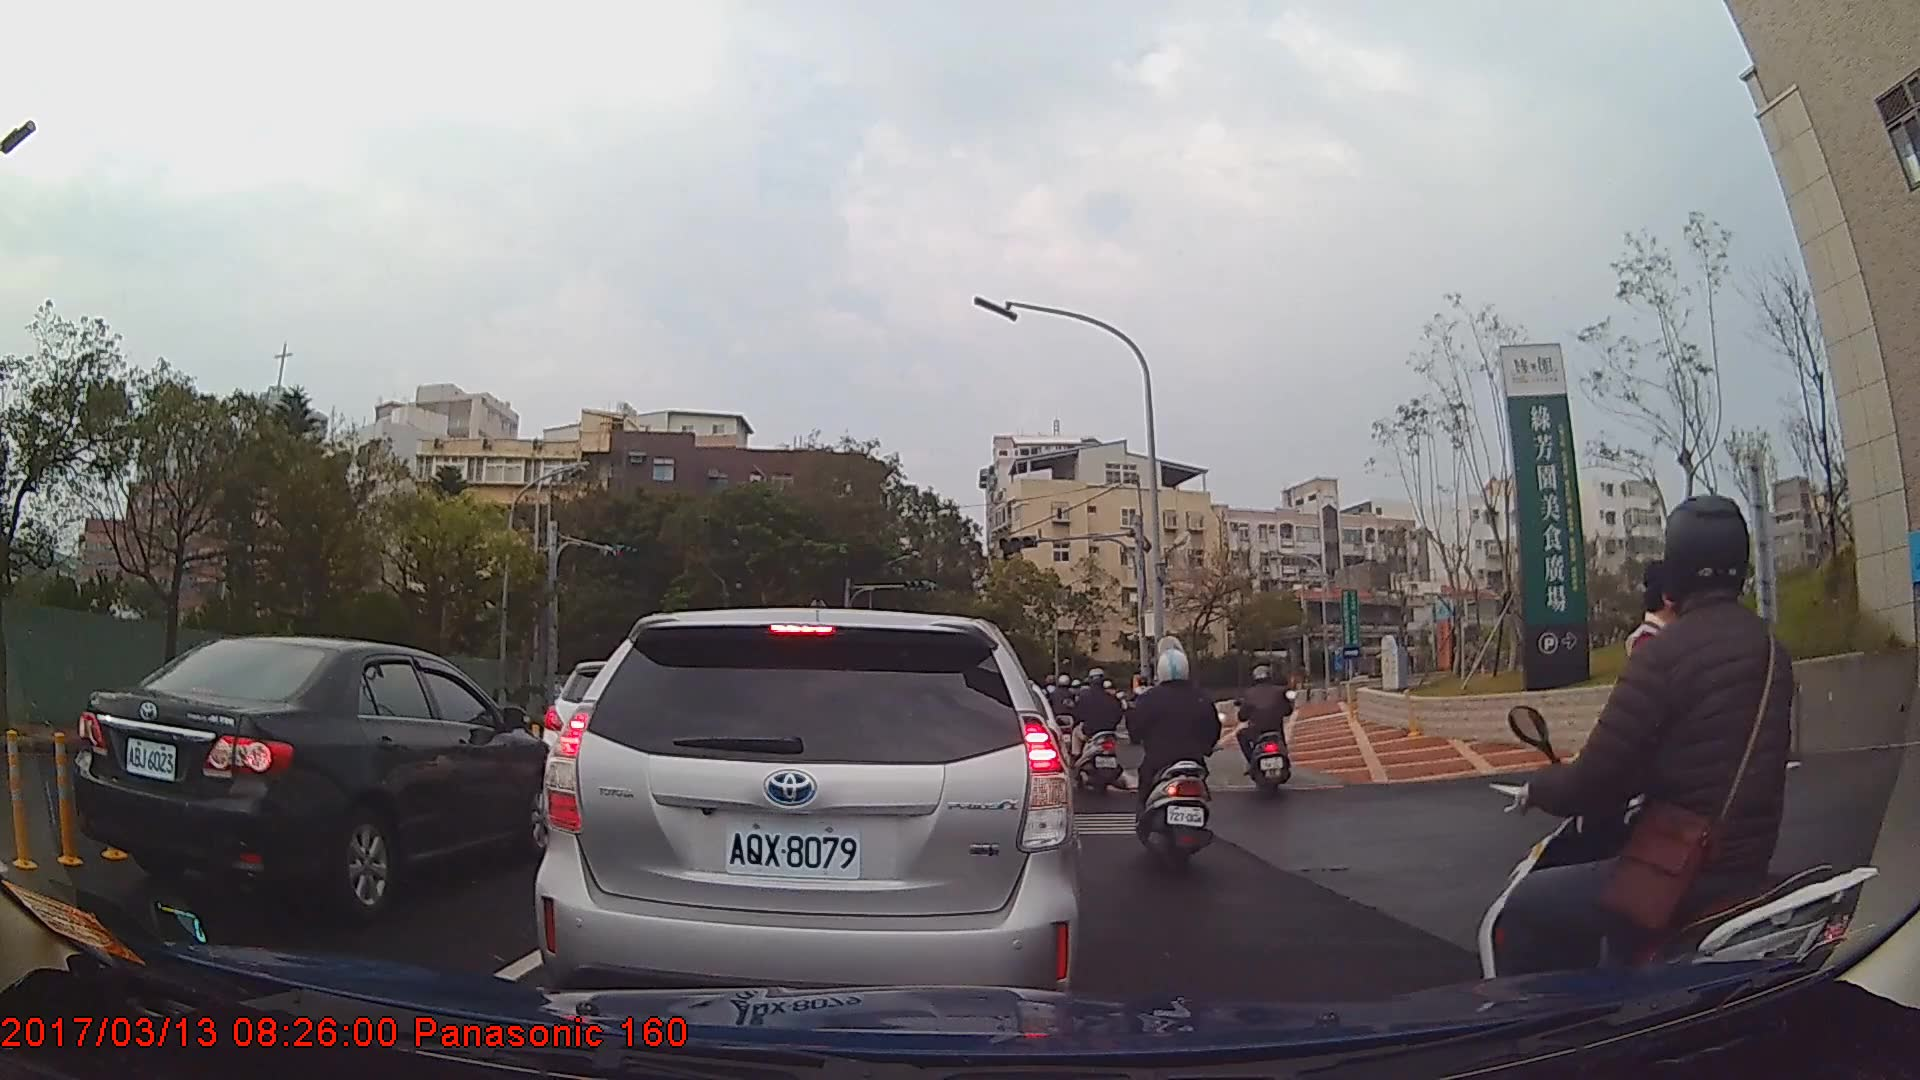rider: (1472, 493, 1881, 1061), (1129, 645, 1232, 884), (1232, 663, 1295, 793), (1074, 667, 1129, 800), (1050, 675, 1082, 762)
vehicle: (536, 604, 1082, 1041), (71, 633, 560, 921)
